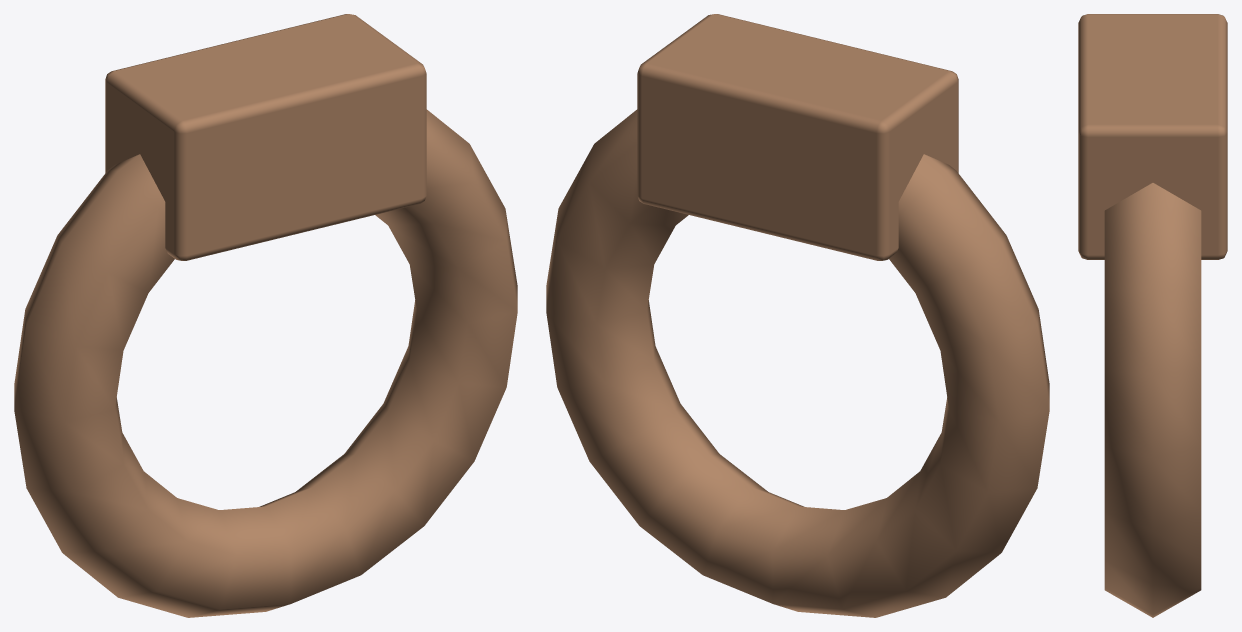
Rendered from scavengers-loot-library-signet-ring-88e470f3__2651.glb.
3 views of the same model, side by side, from view 1: azimuth 30°, elevation 25°; view 2: azimuth 150°, elevation 25°; view 3: azimuth 270°, elevation 25° (orthographic). The views are drawn at different scales.
Visible parts, largest first — view 1: signet-ring; view 2: signet-ring; view 3: signet-ring.
Part boxes in pixels (<box>): signet-ring: <box>14,14,517,617</box>; signet-ring: <box>546,14,1049,617</box>; signet-ring: <box>1078,14,1227,617</box>.
Bounding box in the file's own units: 0.03 × 0.031 × 0.008.
